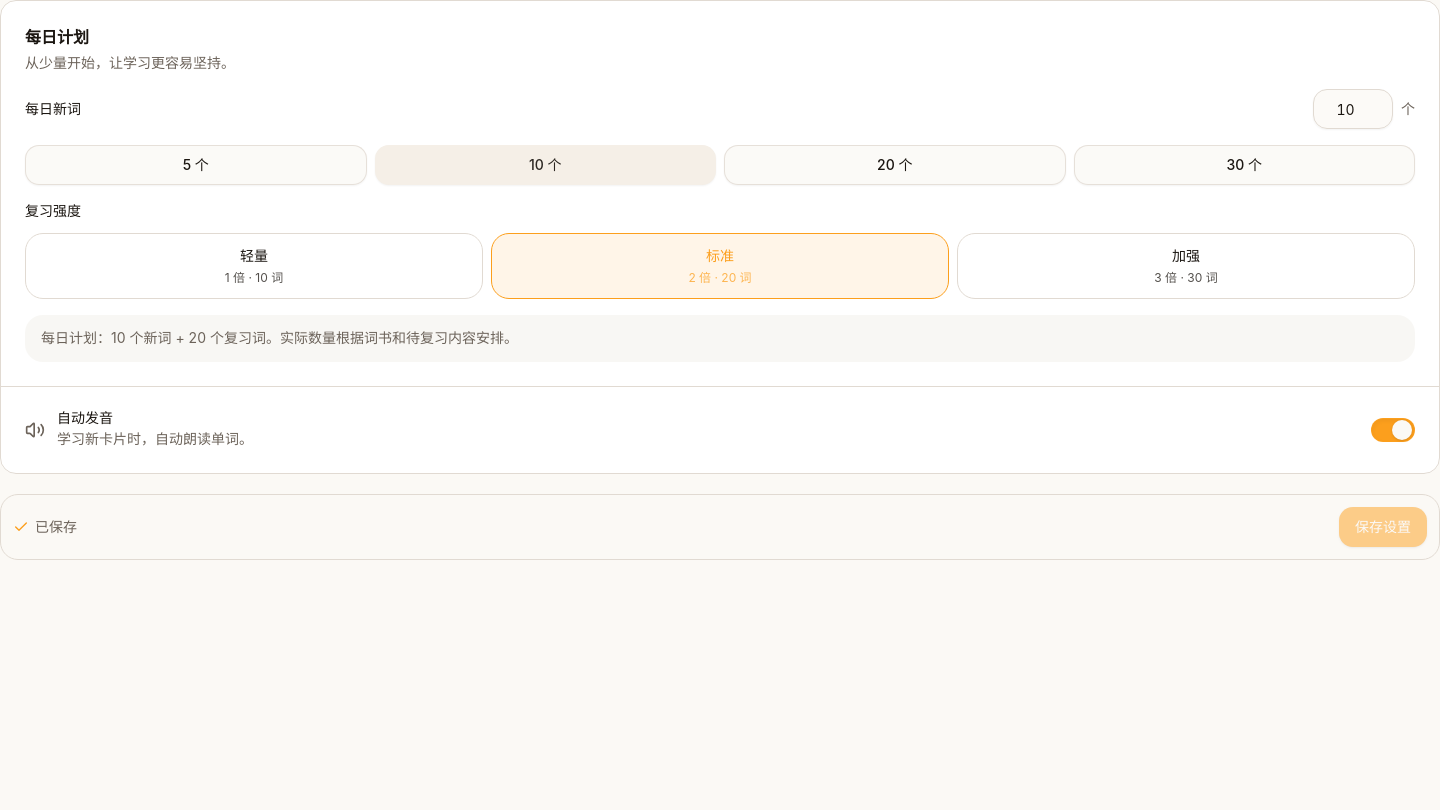
SettingsForm › saves the latest fields only after the explicit save action
Click the button "20 个" at (895, 165), box left=724, top=145, right=1066, bottom=185
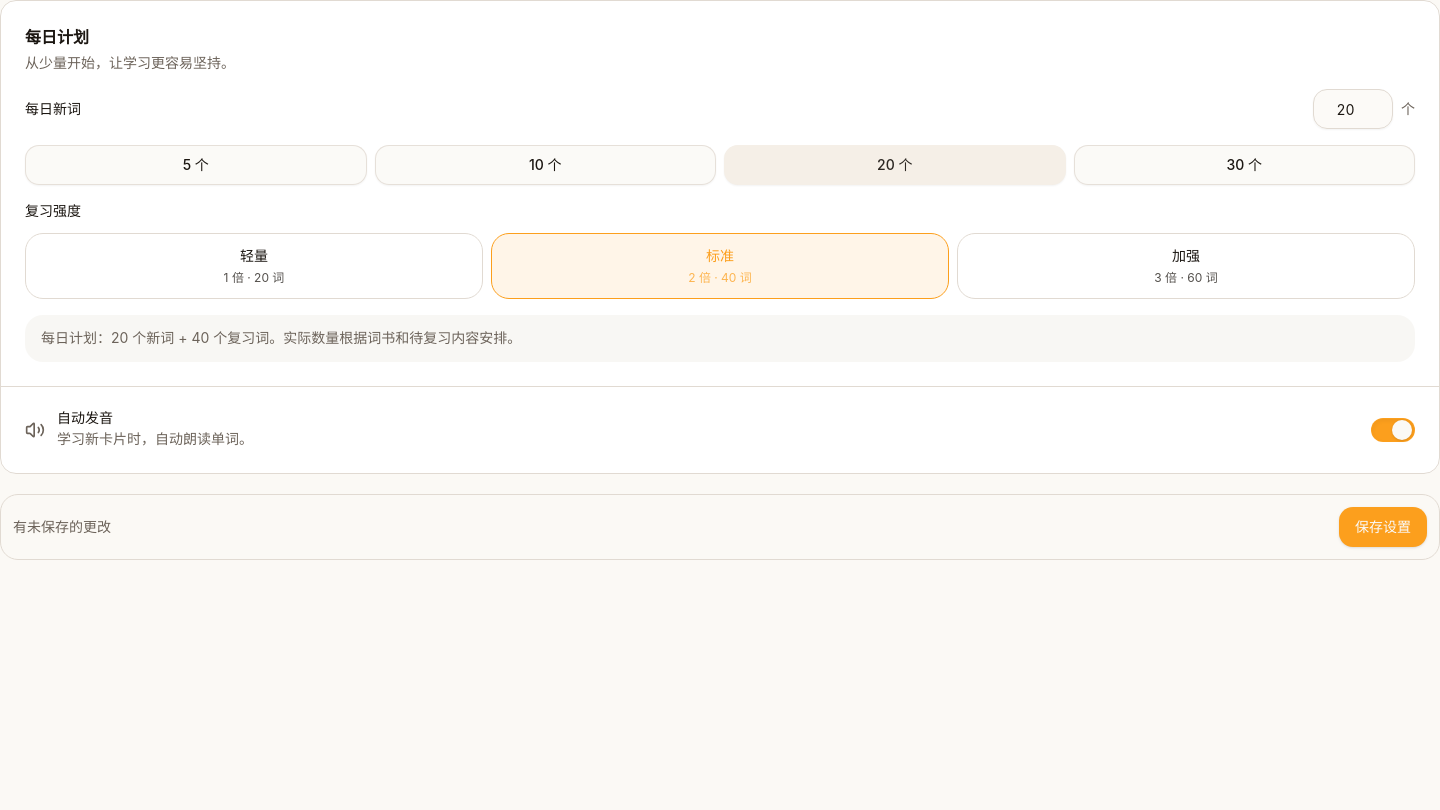
Click the radio button labelled "加强 3 倍 · 60 词" at (1186, 266), box left=957, top=233, right=1415, bottom=299
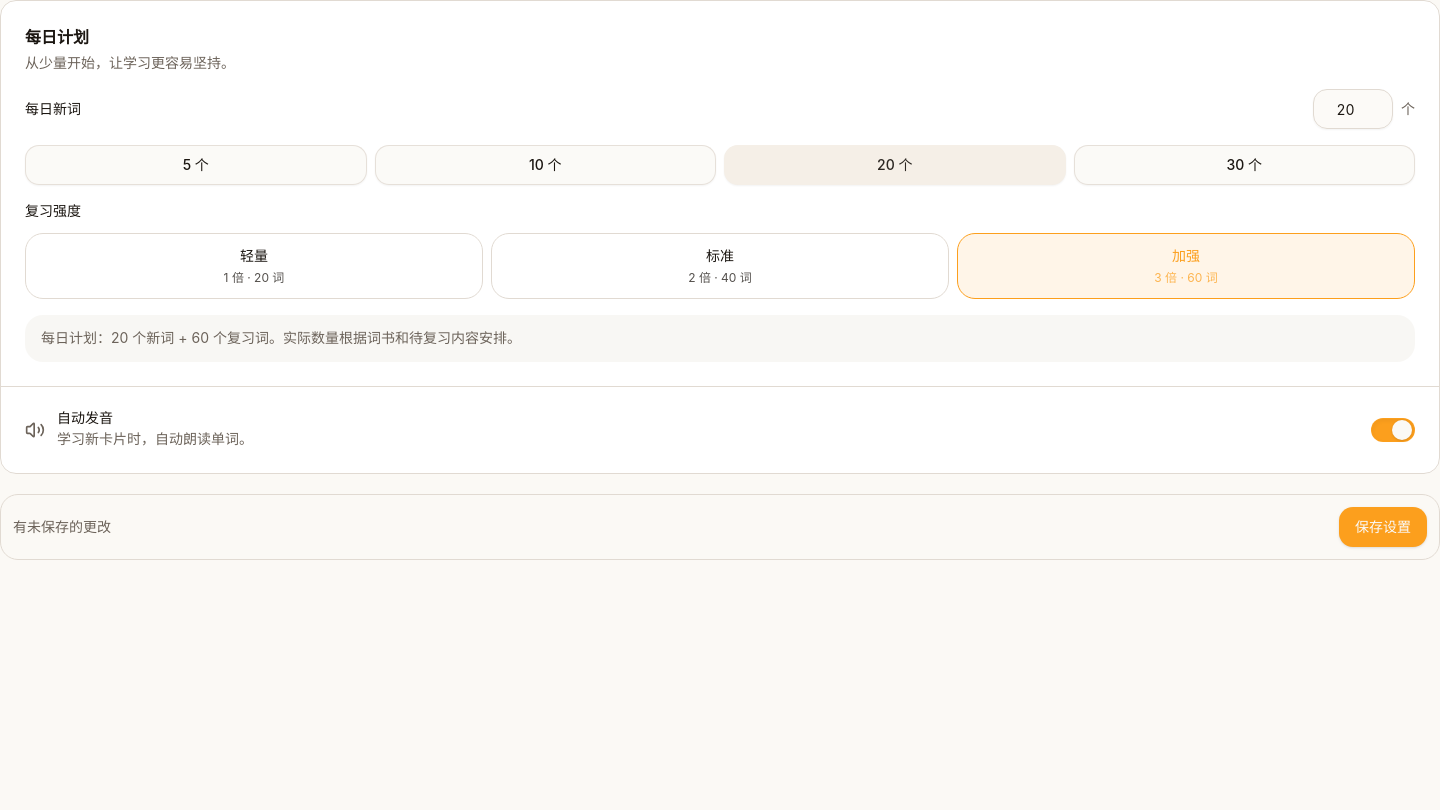
Click the switch named "自动发音" at (1393, 430), box left=1371, top=418, right=1415, bottom=442
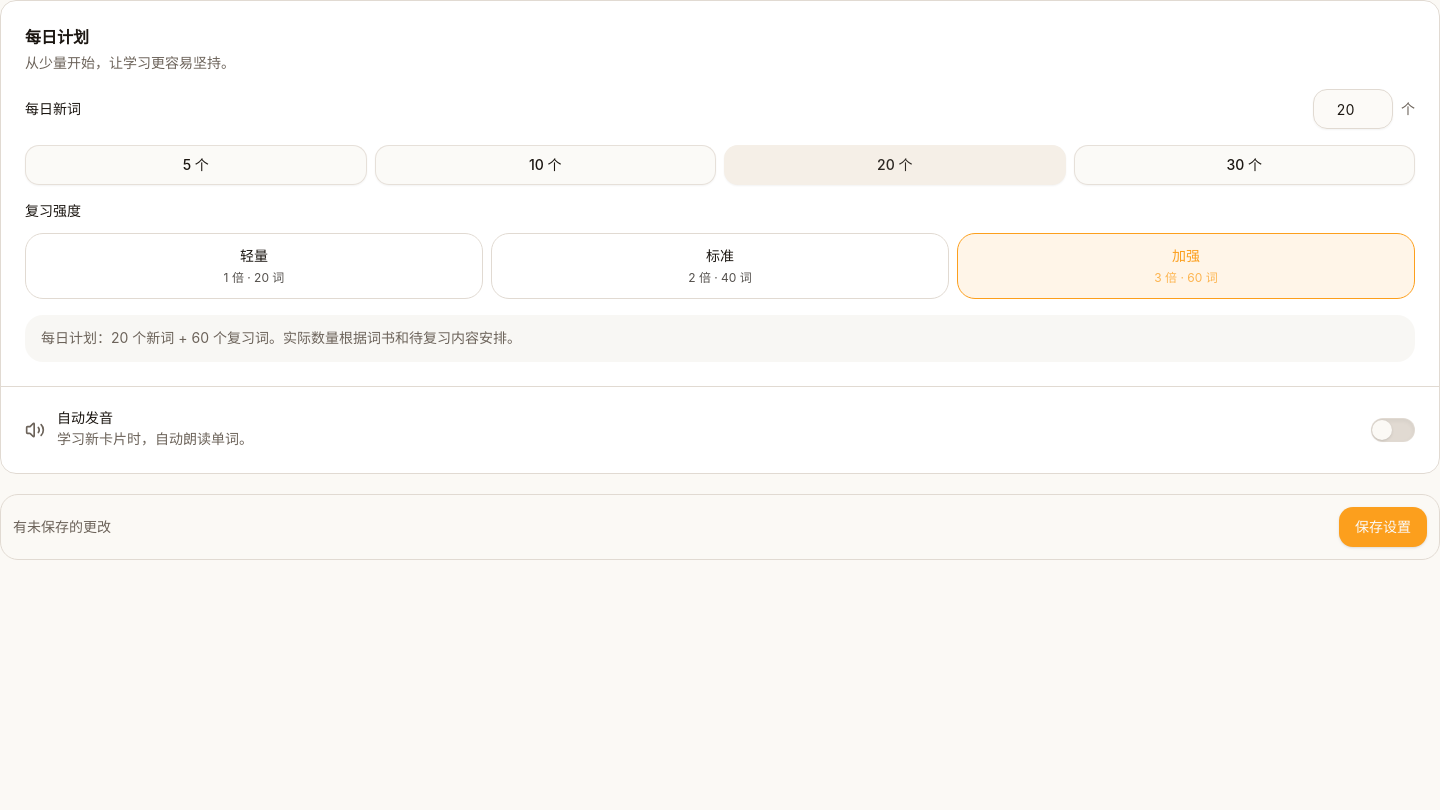
Now the message reads "有未保存的更改", box left=13, top=518, right=111, bottom=535
Click the button "保存设置" at (1383, 527), box left=1339, top=507, right=1427, bottom=547
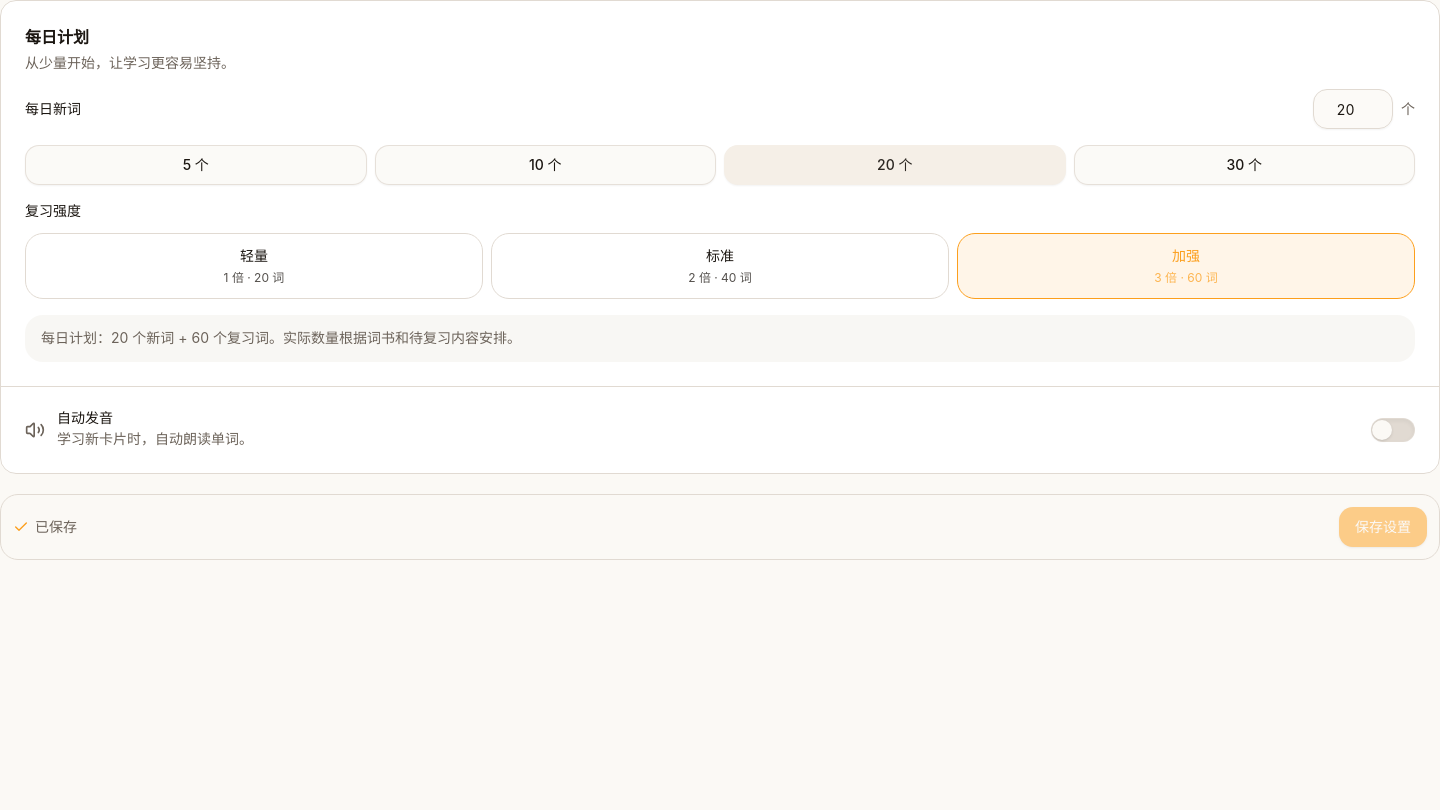
Now the button "保存设置" is disabled, box left=1339, top=507, right=1427, bottom=547
